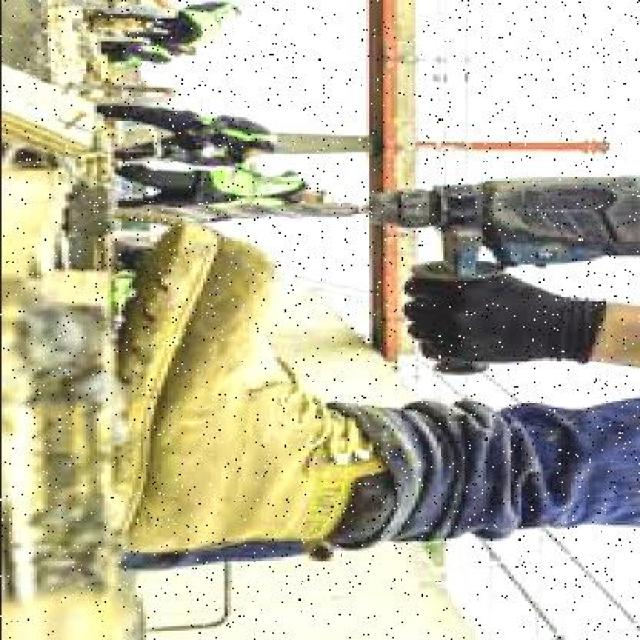shoes: (106, 234, 352, 580)
